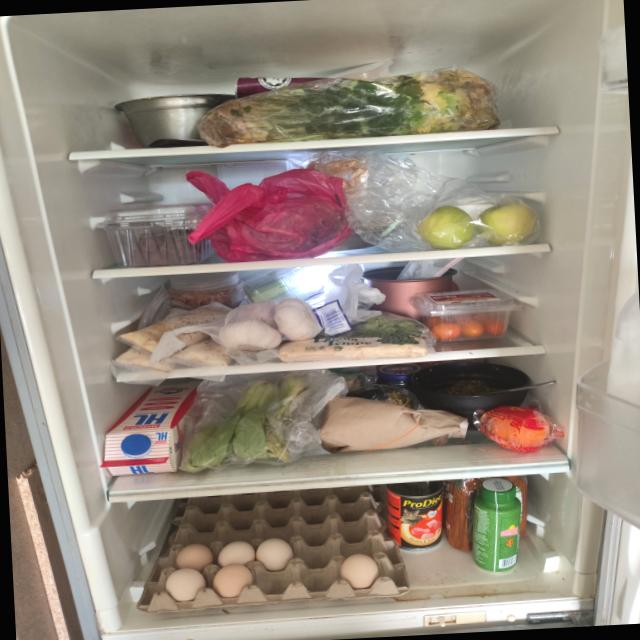apple: (477, 200, 538, 246), (418, 204, 475, 252)
egg: (130, 484, 412, 616)
garlic: (217, 296, 324, 352)
grape: (96, 202, 216, 268)
leafy_greens: (198, 68, 500, 146)
orange: (486, 408, 550, 451)
pakchoy: (176, 376, 312, 474)
tempeh: (112, 300, 238, 376), (278, 332, 430, 366)
unknown_bag: (184, 163, 354, 265)
